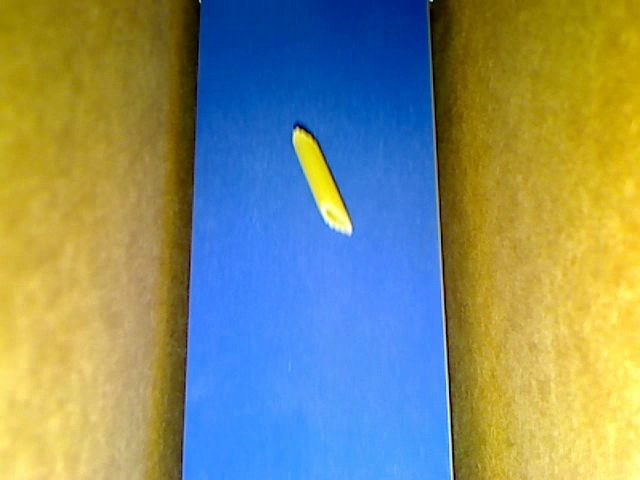penne: (291, 126, 354, 239)
